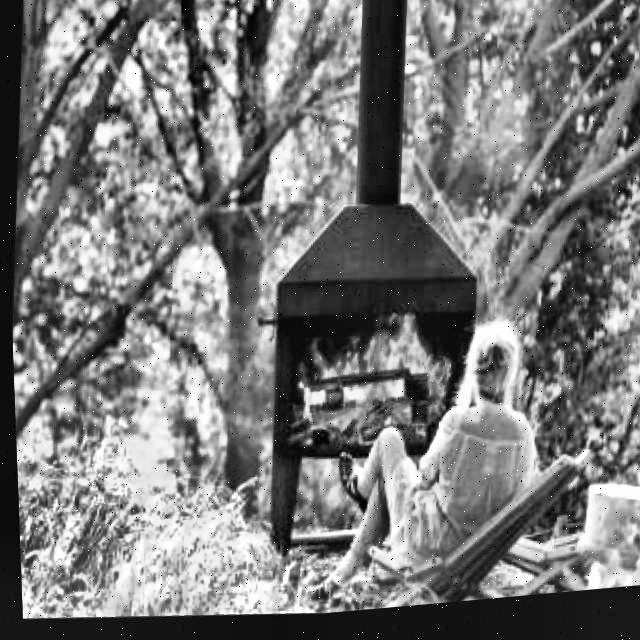Fire: (282, 299, 459, 474)
